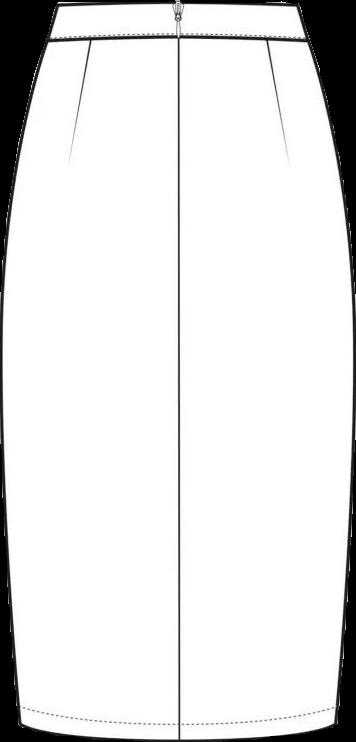Hemline: (18, 717, 342, 741)
Waistline: (42, 30, 306, 47), (55, 0, 300, 9)
